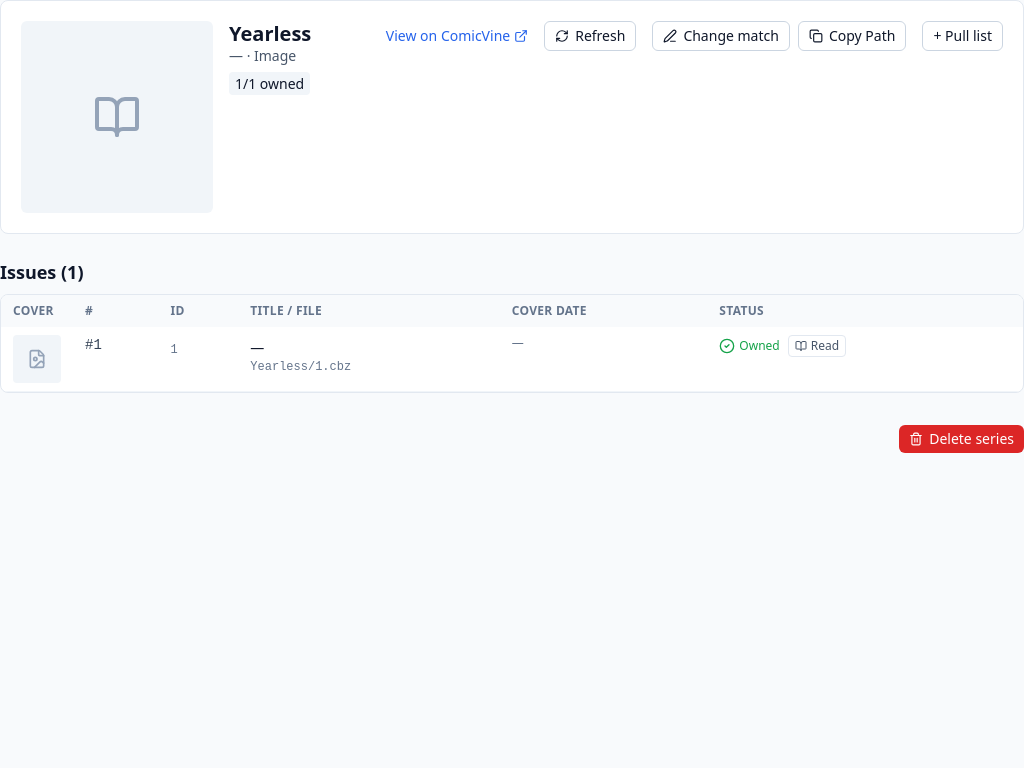
series detail page › renders the bare title (no parentheses) when start_year is null
Click the button "Delete series": [962, 439] box [899, 425, 1023, 453]
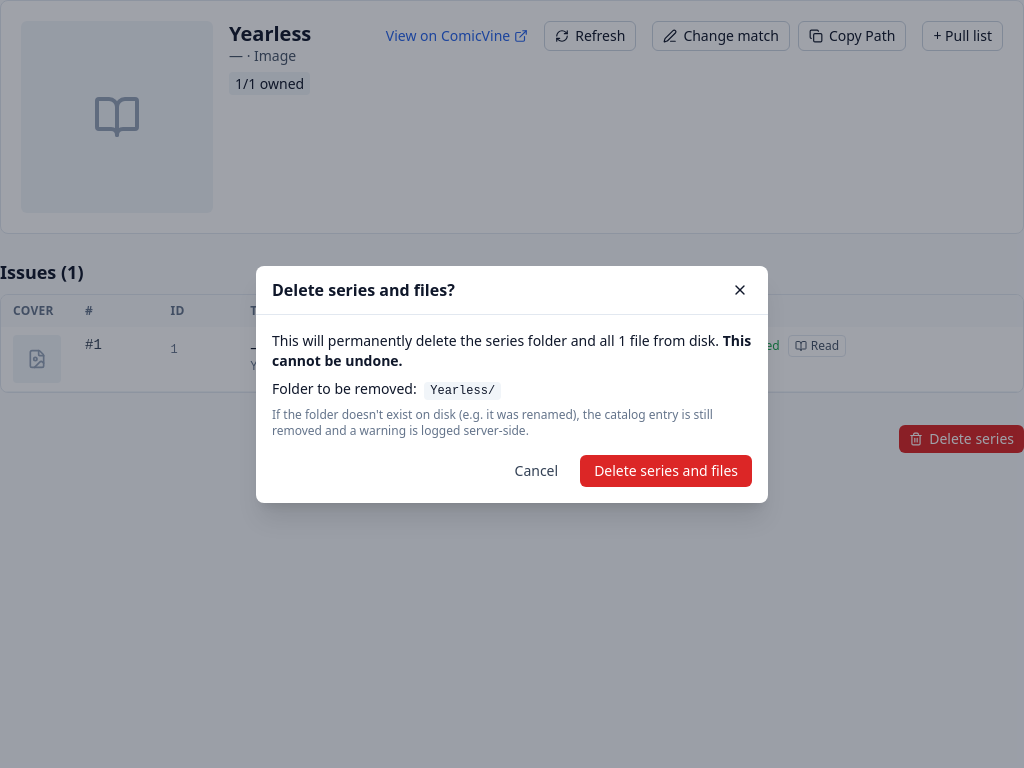
Expected: the text "Yearless/" is shown, [424, 382, 501, 400]
